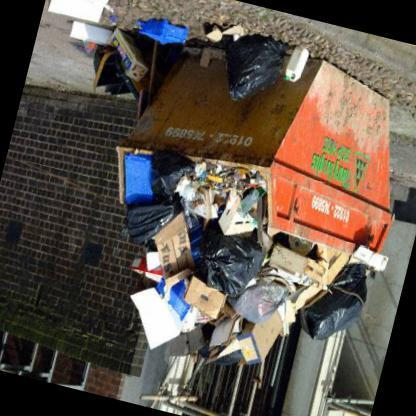Garbage: (132, 242, 262, 367), (192, 216, 326, 336), (46, 0, 167, 110), (201, 8, 289, 102), (293, 274, 374, 346), (216, 266, 291, 324), (138, 147, 192, 215), (146, 284, 202, 344), (186, 166, 249, 216), (168, 172, 219, 232), (201, 236, 255, 290), (117, 198, 171, 250), (226, 282, 284, 330), (226, 168, 264, 200)
